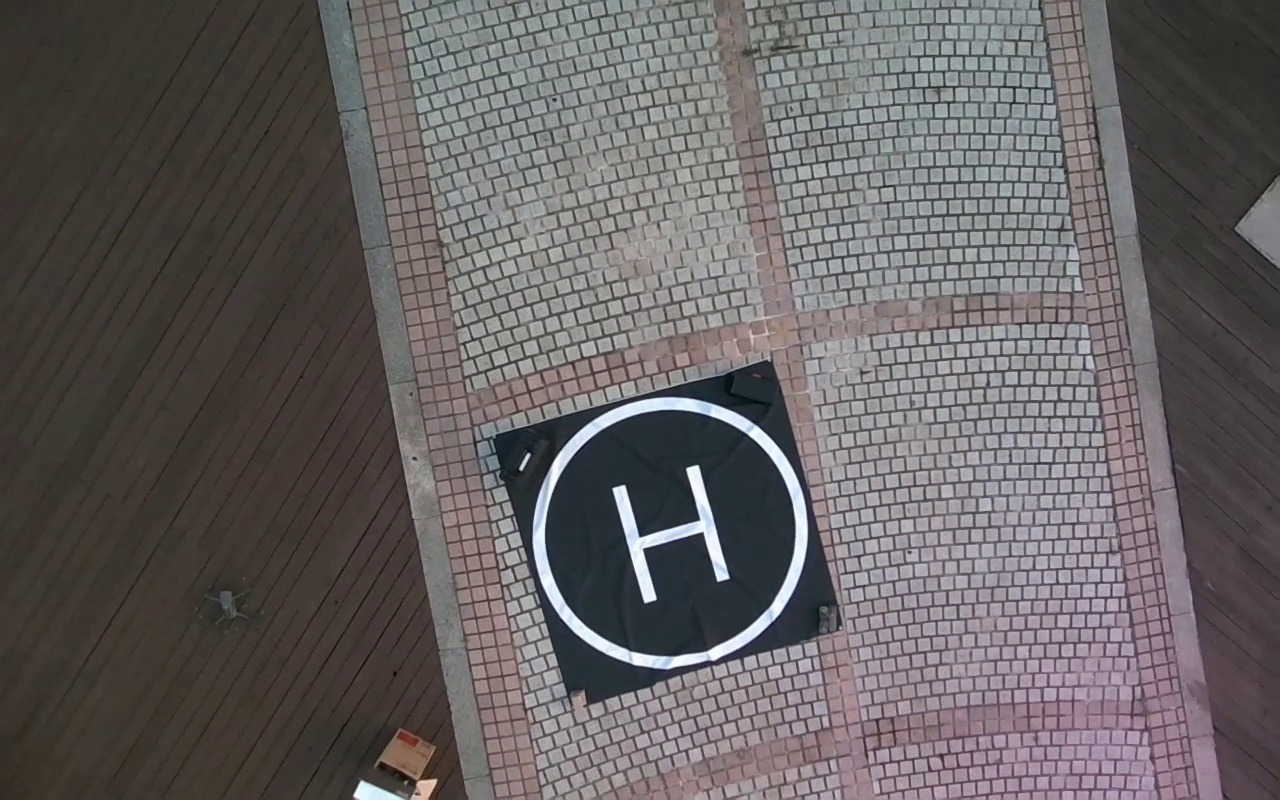H: (611, 465, 732, 604)
heliport: (530, 396, 810, 666)
